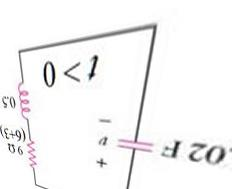inductor: (15, 74, 31, 121)
